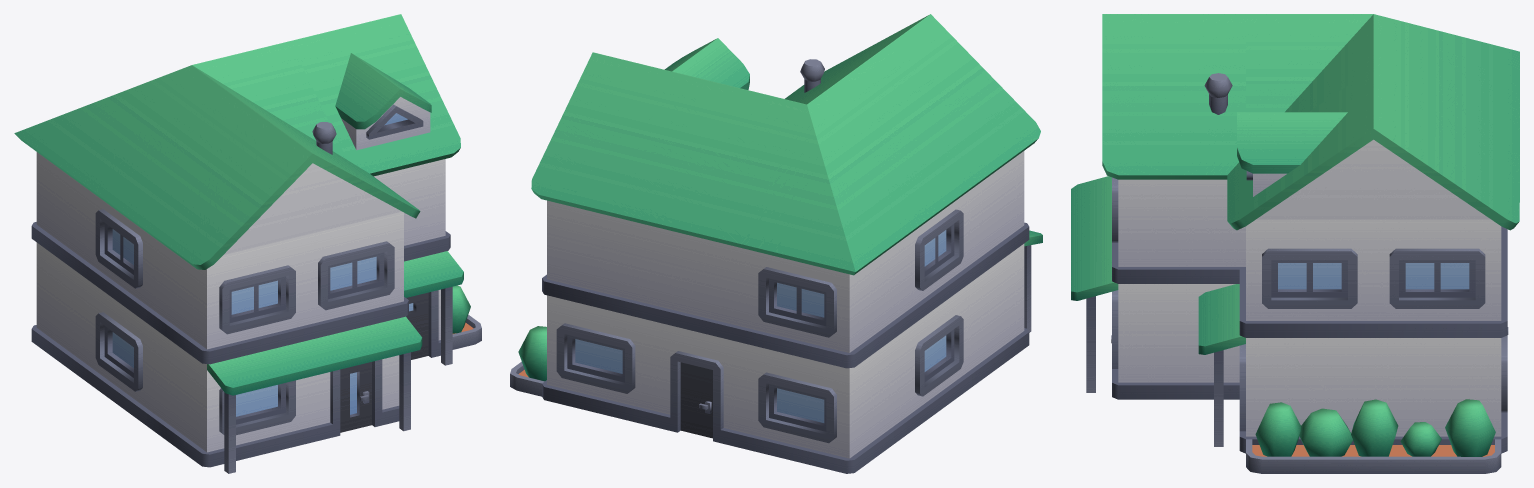
Rendered from building-type-f.003_lev3.glb.
3 renders of one model, left to right at view 1: azimuth 30°, elevation 25°; view 2: azimuth 150°, elevation 25°; view 3: azimuth 270°, elevation 25°, orthographic. The views are drawn at different scales.
Visible parts, largest first — view 1: building-type-f.003_lev3; view 2: building-type-f.003_lev3; view 3: building-type-f.003_lev3.
Part boxes in pixels (x1,y1,x2,y2): building-type-f.003_lev3: (14, 14, 481, 473); building-type-f.003_lev3: (510, 14, 1042, 473); building-type-f.003_lev3: (1071, 14, 1519, 473).
Size of the model in its own units: 5.71 by 4.55 by 5.62.
1 material, 1 textured.
